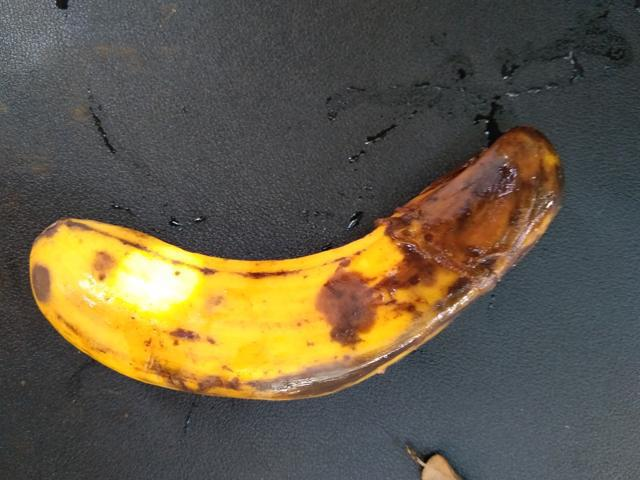rotten: (18, 104, 571, 425)
